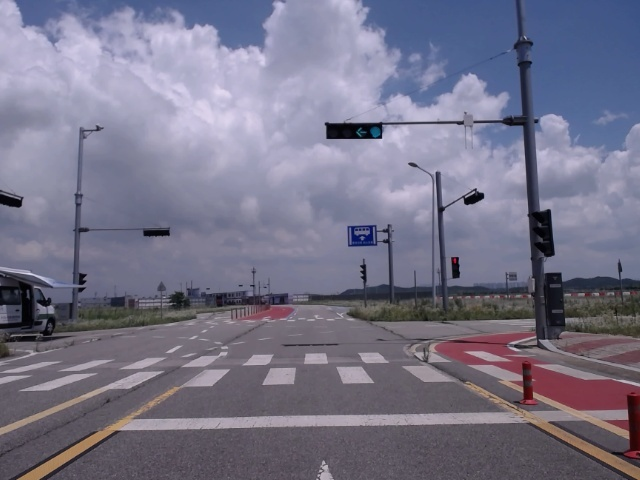all_green_4: (325, 123, 384, 138)
